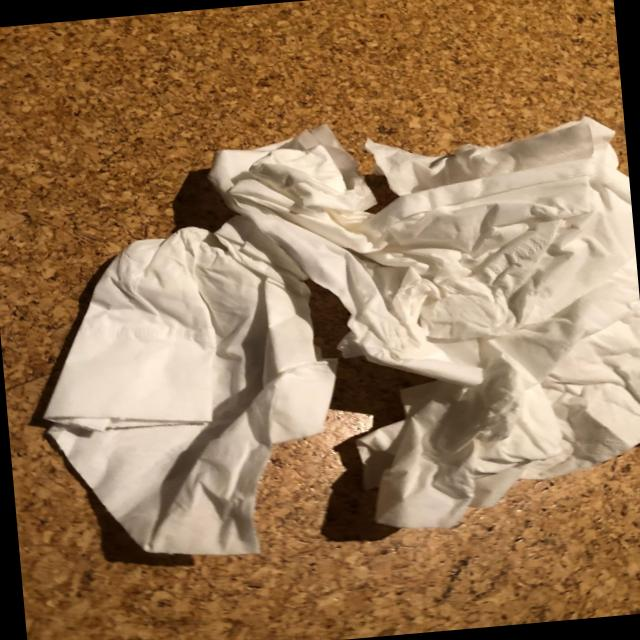organic waste: (196, 98, 640, 410), (12, 204, 354, 576), (346, 300, 640, 541)
